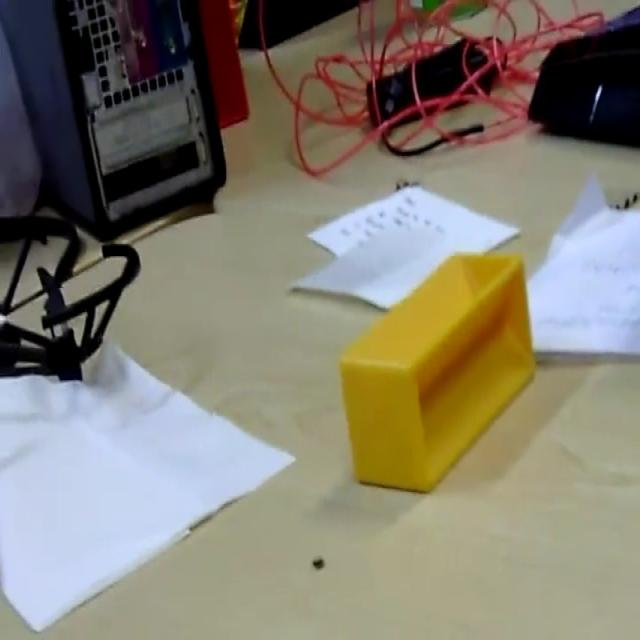yellow_block: (338, 248, 536, 493)
